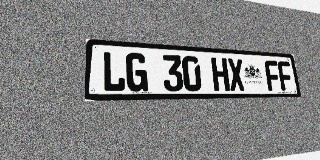0: (182, 56, 202, 91)
3: (162, 54, 183, 91)
F: (264, 60, 281, 91), (277, 61, 294, 91)
G: (126, 52, 148, 92)
H: (211, 57, 230, 91)
L: (102, 51, 125, 92)
X: (227, 58, 246, 91)
